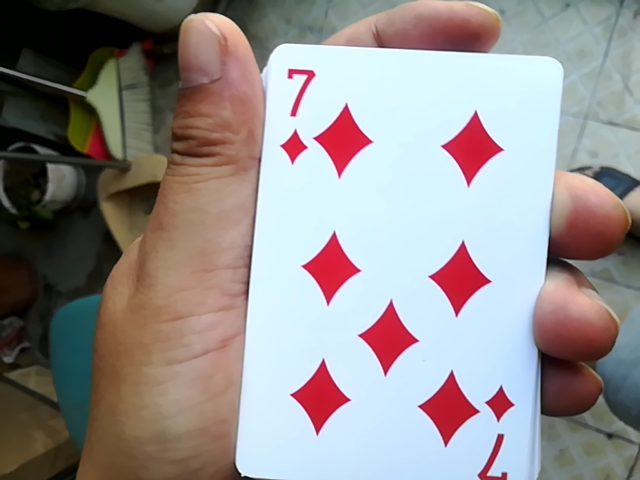fk 7: (226, 52, 560, 473)
